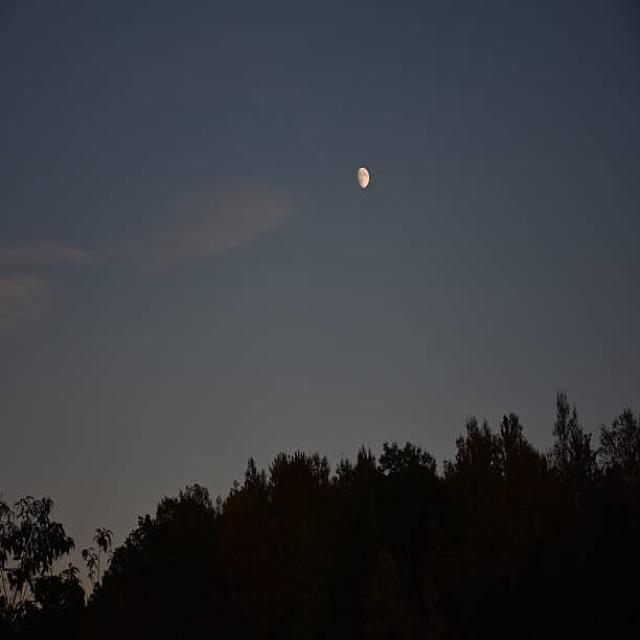moon: (348, 164, 373, 192)
